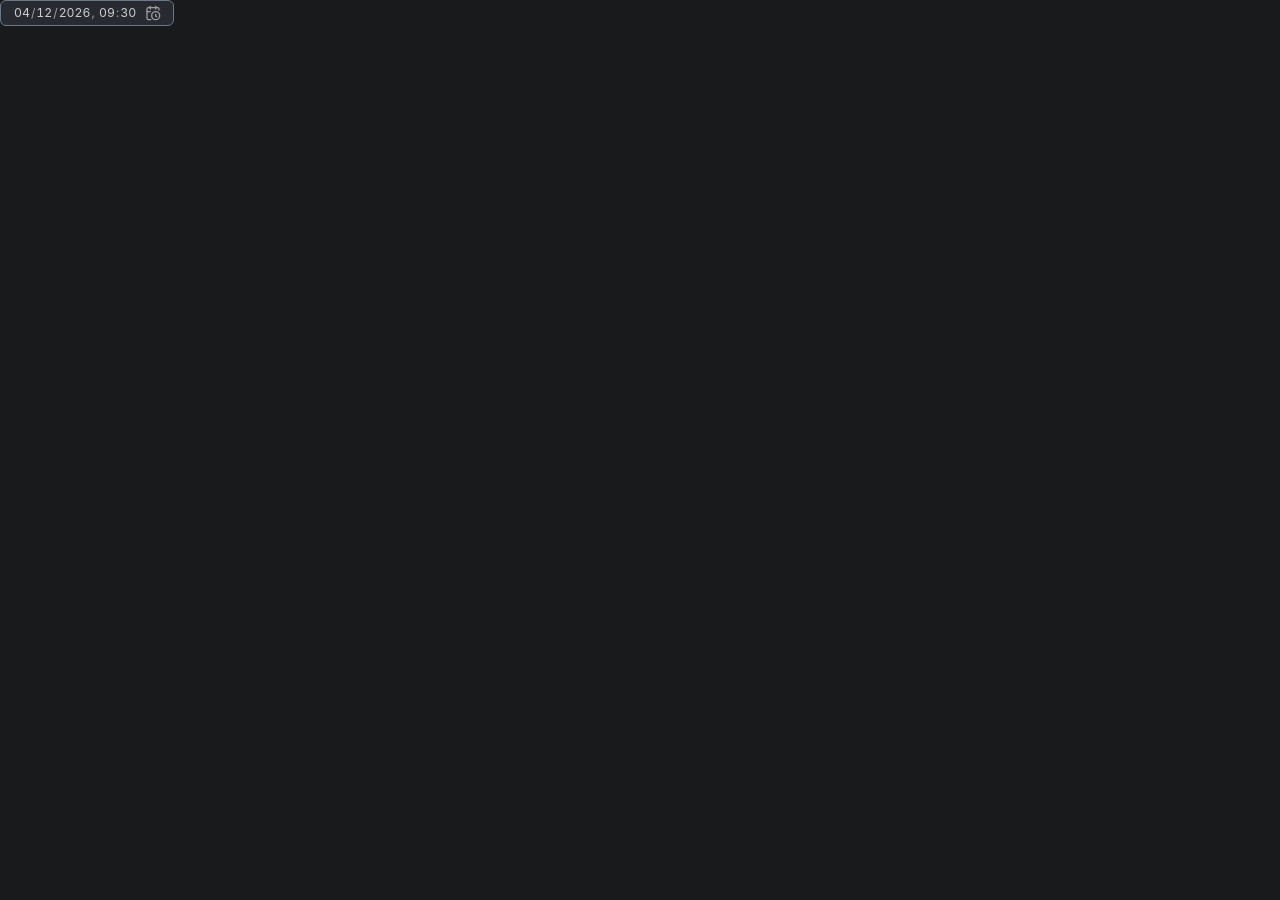
Scenario: DateTimePicker › opens popover and renders both Calendar and time columns
Click the button named "open calendar".
click(153, 13)  # box [145,5,161,21]
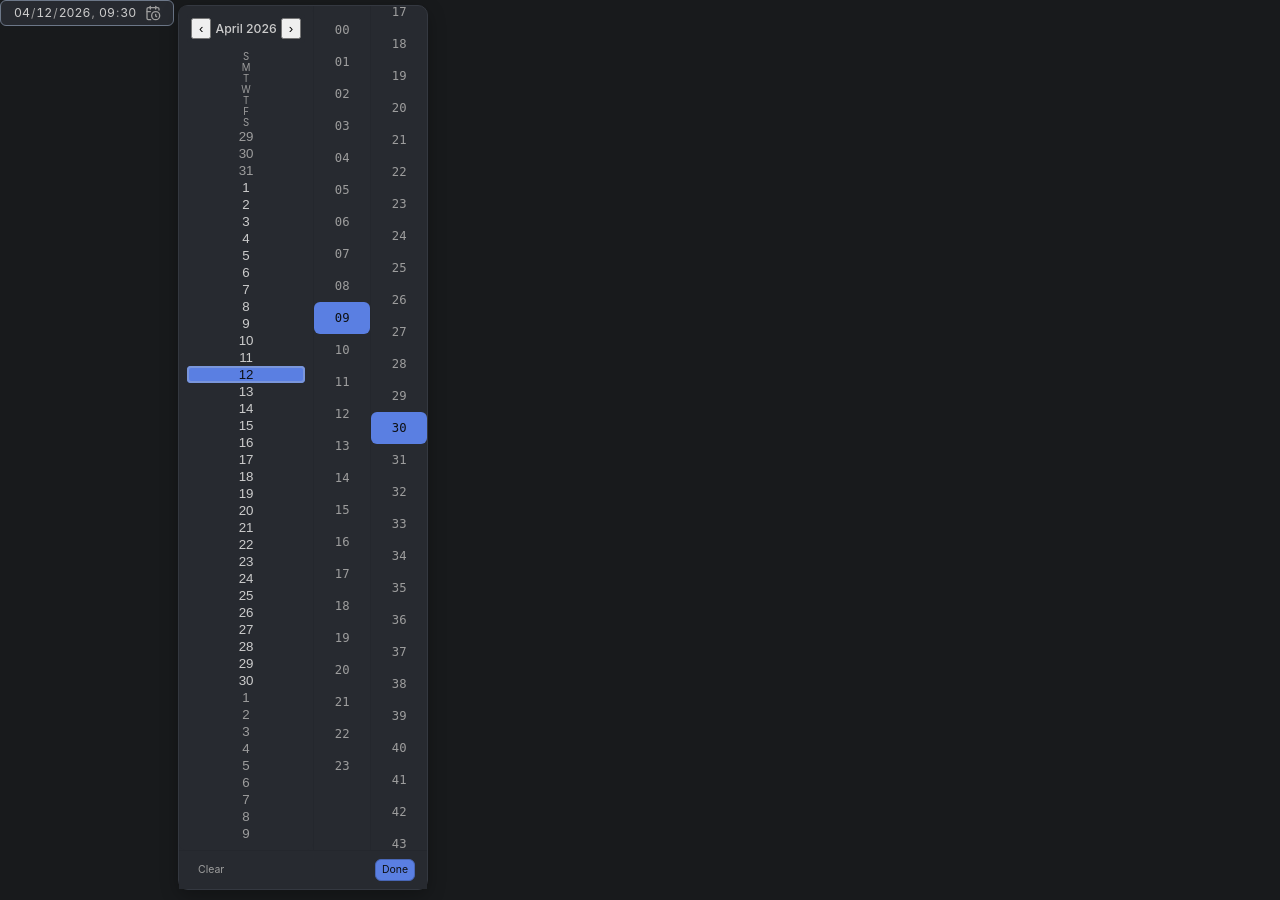
Now the table is shown, box [187,51,305,842]
Now the list named "hours" is shown, box [314,6,370,850]
Now the list named "minutes" is shown, box [371,6,427,850]
